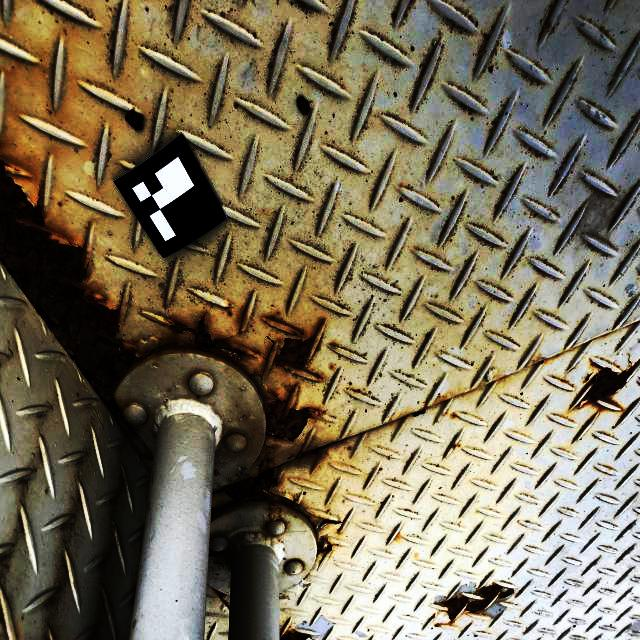Corrosion: (0, 160, 138, 446), (147, 313, 248, 365), (441, 583, 516, 621), (271, 319, 324, 369), (221, 468, 277, 513), (580, 359, 634, 404), (266, 397, 314, 444), (263, 334, 276, 377), (292, 445, 323, 461), (280, 629, 311, 640), (214, 590, 229, 608), (317, 538, 333, 554), (209, 549, 225, 560)
